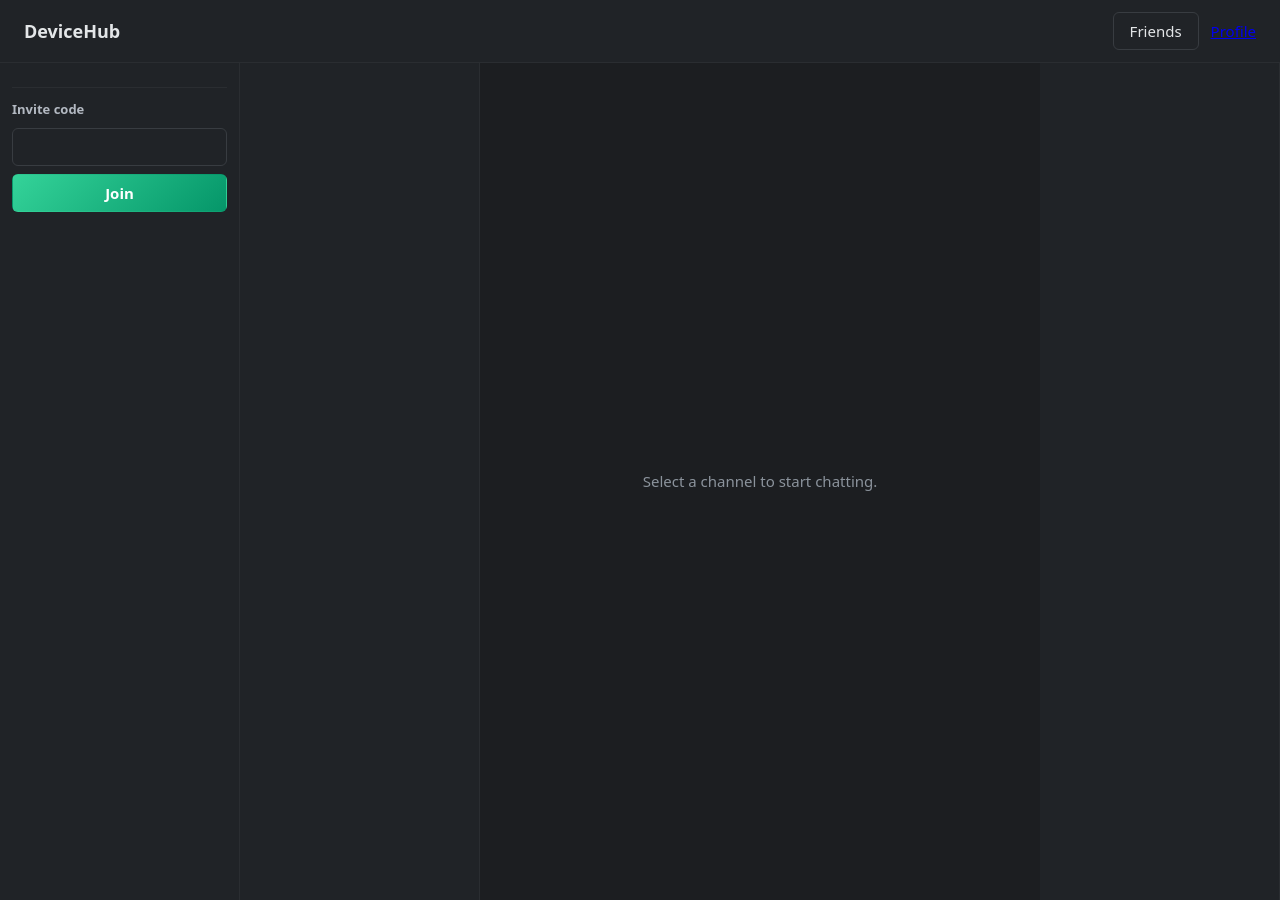
Test: HomePage › toggles to friends mode and back
Click the button "Friends" at (1156, 31), box [1113,12,1199,50]
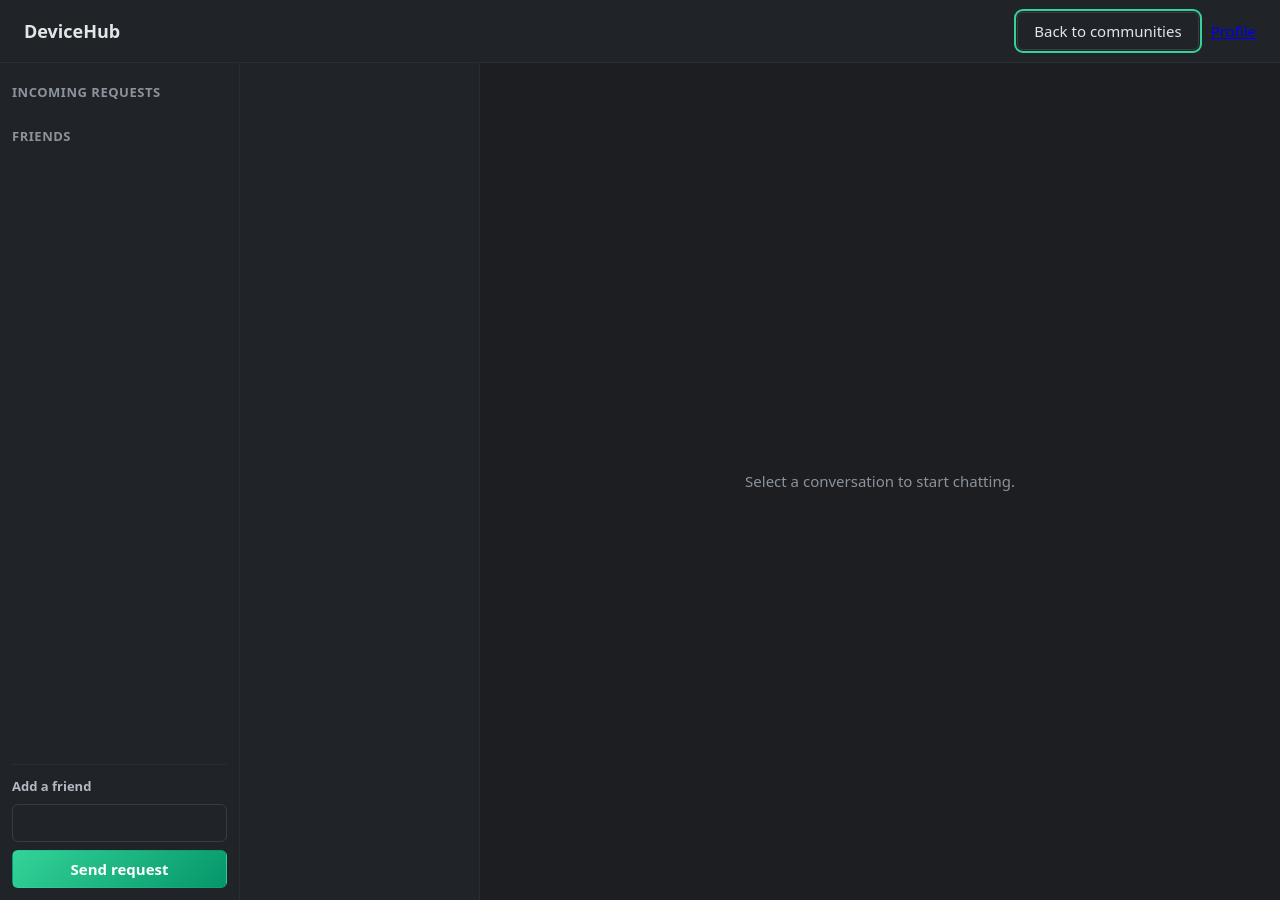
Now the text "Select a conversation to start chatting." is shown, box [745,470,1015,493]
Click the button "Back to communities" at (1108, 31), box [1017,12,1199,50]
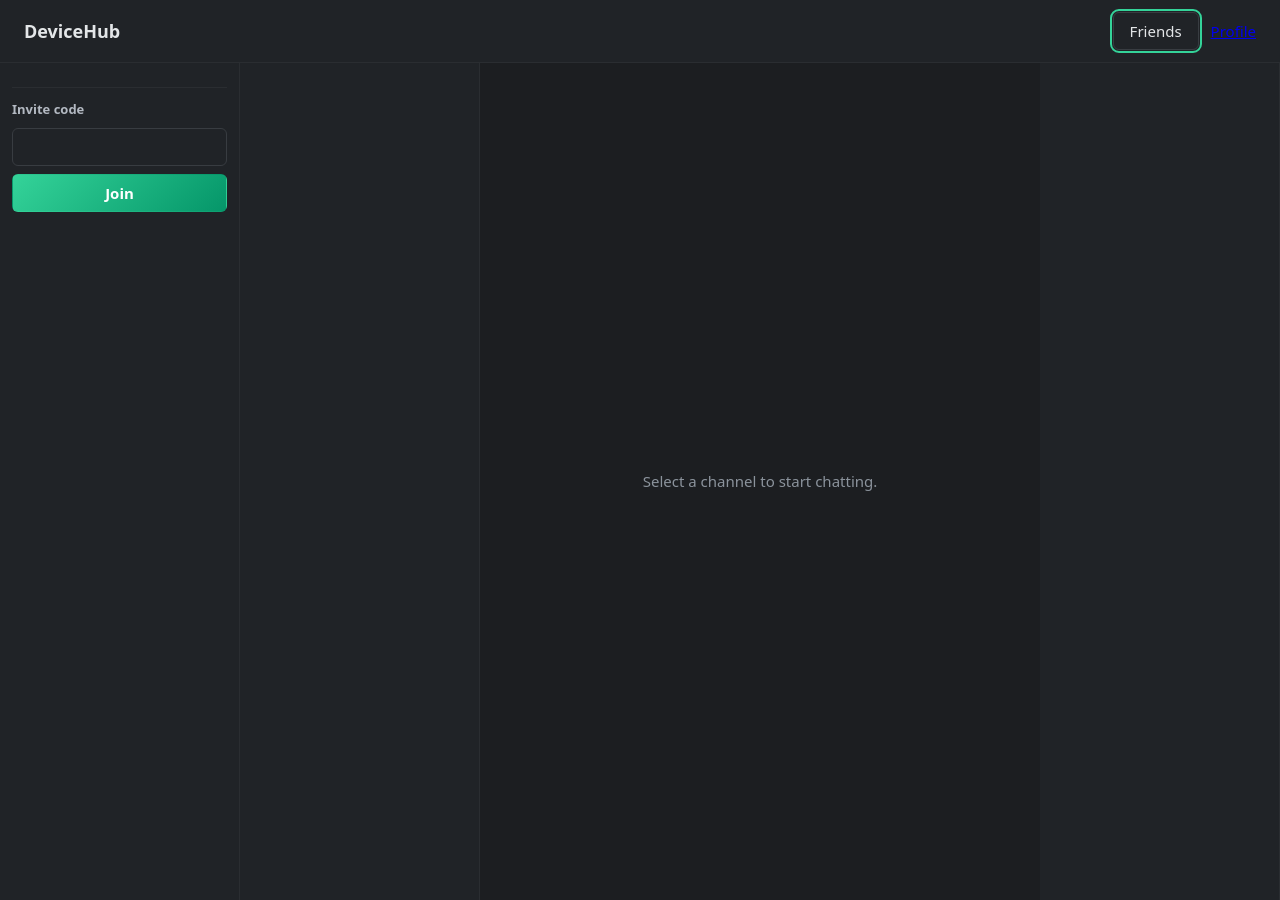
Now the text "Select a channel to start chatting." is shown, box [643,470,877,493]
